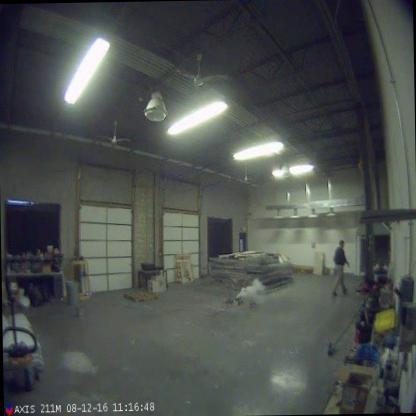smoke: (233, 274, 266, 306)
